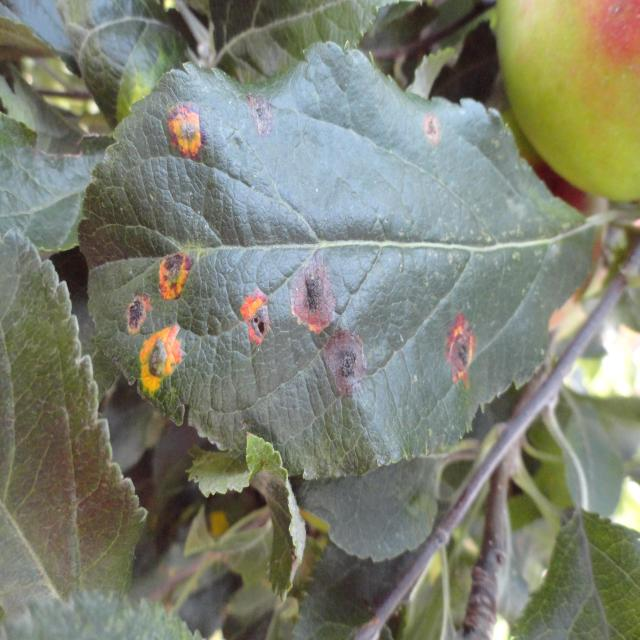Rust: (137, 307, 200, 415), (284, 252, 344, 341), (324, 326, 379, 419), (220, 282, 284, 352), (444, 307, 486, 413), (162, 91, 212, 166), (146, 244, 201, 306), (238, 72, 280, 152), (412, 100, 452, 156), (117, 284, 154, 339)
